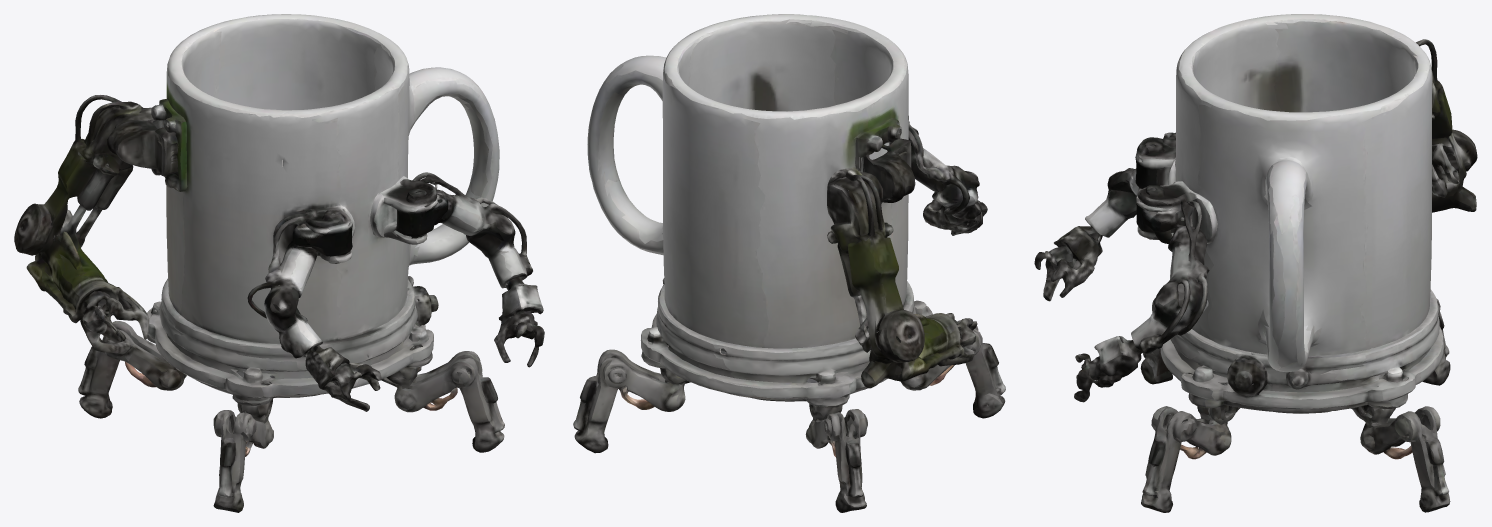
3 views of the same model, side by side, from view 1: azimuth 30°, elevation 25°; view 2: azimuth 150°, elevation 25°; view 3: azimuth 270°, elevation 25° (orthographic). The views are drawn at different scales.
Parts seen in each view (by area): view 1: geometry_0; view 2: geometry_0; view 3: geometry_0.
Part boxes in pixels (x1,y1,x2,y2): geometry_0: (14,14,544,512); geometry_0: (573,14,1005,512); geometry_0: (1034,14,1477,512).
Bounding box in the file's own units: 0.2064 × 0.18 × 0.1894.
1 material, 1 textured.
